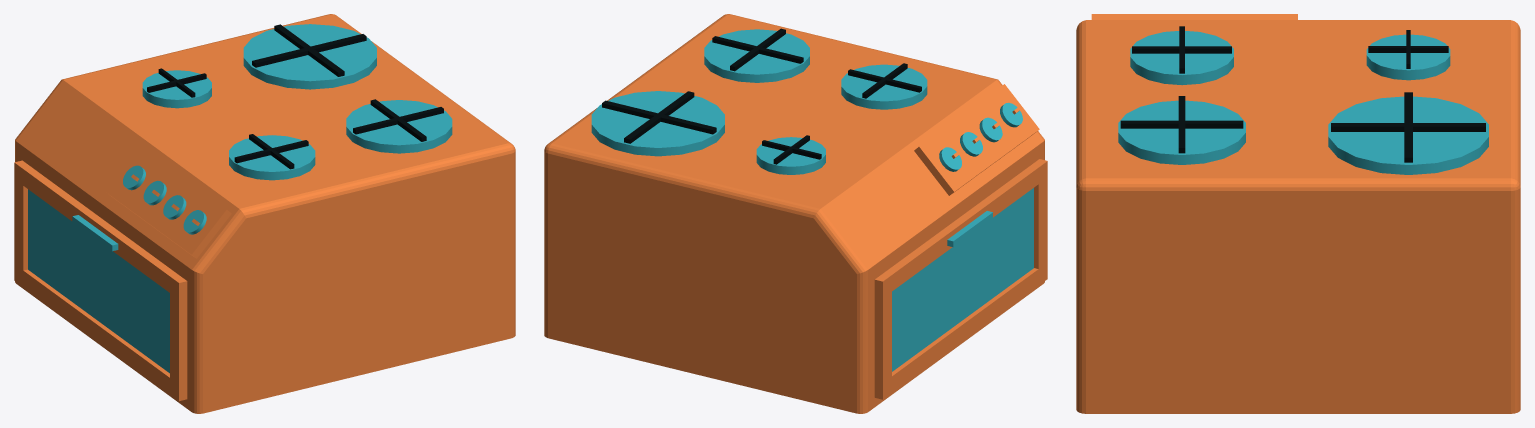
The model's file is Fogones.fbx.
3 renders of one model, left to right at view 1: azimuth 30°, elevation 25°; view 2: azimuth 150°, elevation 25°; view 3: azimuth 270°, elevation 25°, orthographic. The views are drawn at different scales.
Parts seen in each view (by area): view 1: Box003; view 2: Box003; view 3: Box003.
Part boxes in pixels (left/top/right/bottom): Box003: left=14, top=14, right=515, bottom=413; Box003: left=544, top=14, right=1047, bottom=413; Box003: left=1076, top=14, right=1520, bottom=413.
Size of the model in its own units: 61.37 by 35.57 by 58.06.
